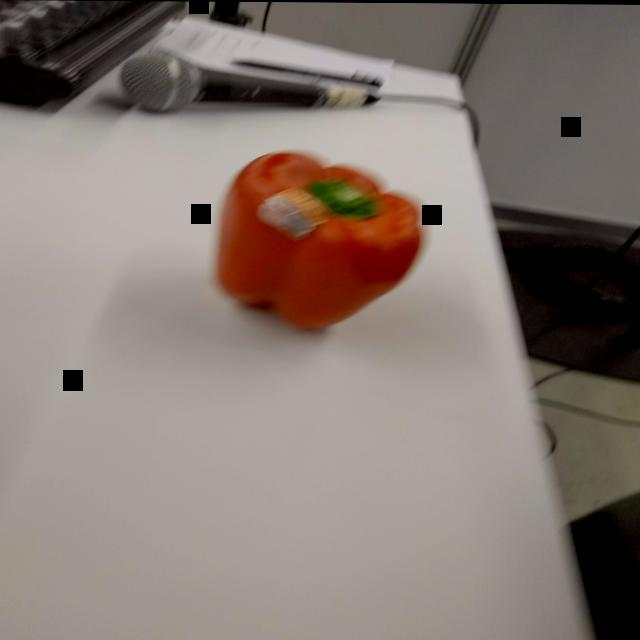paprika: (205, 144, 438, 335)
